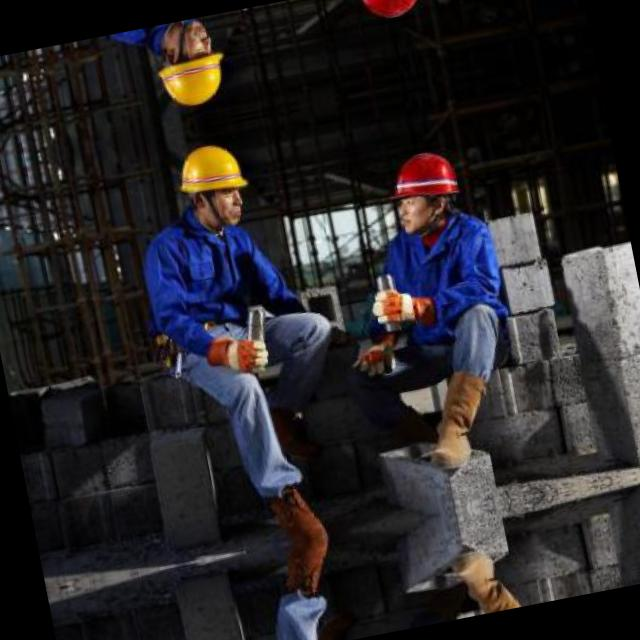helmet: (140, 14, 239, 120), (164, 132, 262, 238), (374, 139, 472, 241), (342, 0, 432, 34)
